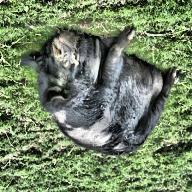boar: (17, 19, 192, 166)
